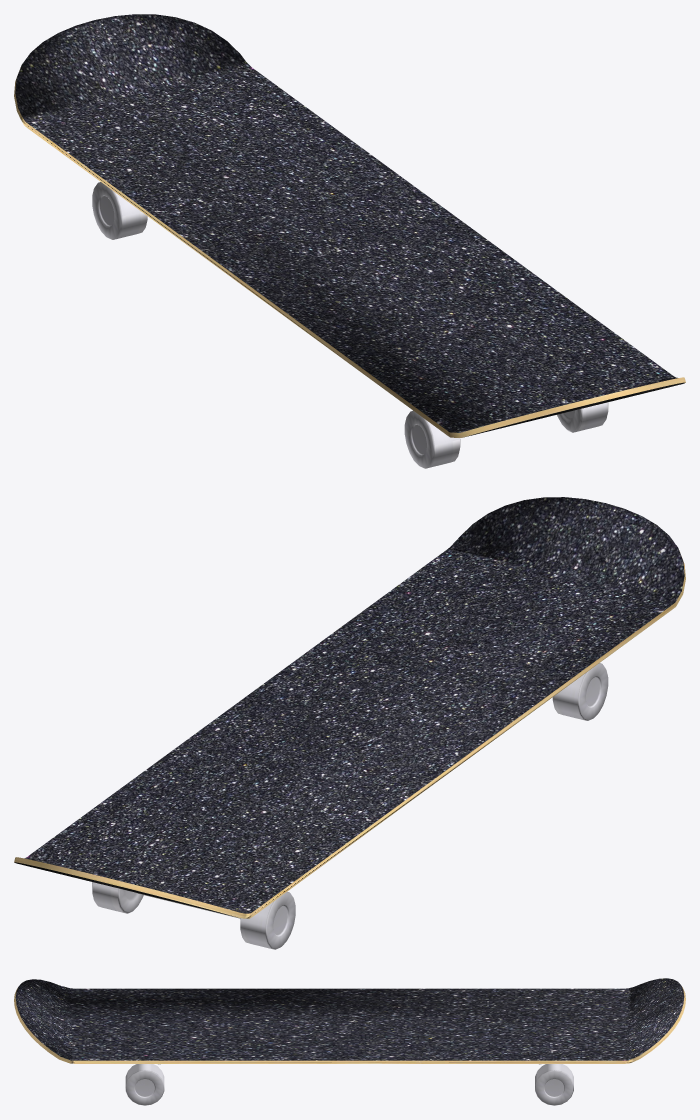
Rendered from skate.obj.
3 views of the same model, one above another, from view 1: azimuth 30°, elevation 25°; view 2: azimuth 150°, elevation 25°; view 3: azimuth 270°, elevation 25° (orthographic). The views are drawn at different scales.
Visible parts, largest first — view 1: BOARD_BASIC, WHEEL05, WHEEL04, WHEEL06; view 2: BOARD_BASIC, WHEEL04, WHEEL05, WHEEL03; view 3: BOARD_BASIC, WHEEL06, WHEEL03.
Boxes of the visible parts, <box> form: BOARD_BASIC: <box>14,14,685,437</box>; WHEEL05: <box>404,410,460,468</box>; WHEEL04: <box>92,182,147,239</box>; WHEEL06: <box>557,402,608,432</box>; BOARD_BASIC: <box>14,497,685,918</box>; WHEEL04: <box>240,891,295,949</box>; WHEEL05: <box>552,663,608,720</box>; WHEEL03: <box>92,882,143,913</box>; BOARD_BASIC: <box>14,978,685,1063</box>; WHEEL06: <box>125,1064,164,1105</box>; WHEEL03: <box>535,1064,573,1105</box>.
Size of the model in its own units: 3.18 by 1.67 by 12.51.
